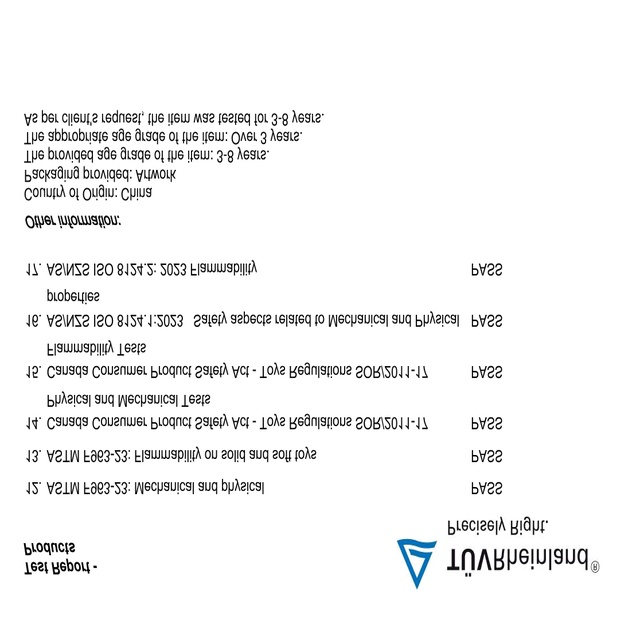tuv_rheinland: (393, 533, 604, 592)
